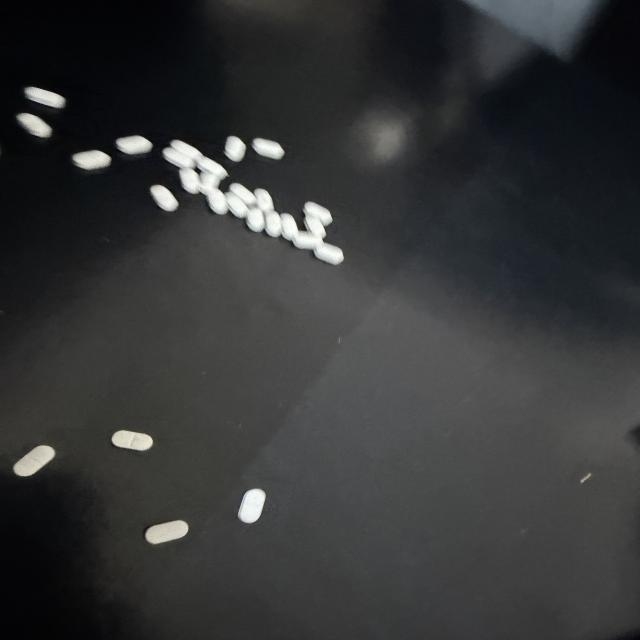pill: (14, 446, 55, 476), (145, 520, 188, 544), (238, 489, 265, 523), (16, 113, 52, 137), (24, 87, 65, 108), (112, 430, 153, 450), (72, 150, 111, 170), (196, 156, 228, 180), (150, 185, 178, 212), (115, 136, 153, 155), (304, 202, 332, 226), (252, 138, 284, 159), (163, 147, 194, 168), (314, 243, 343, 265), (170, 140, 201, 160), (225, 192, 248, 218), (229, 183, 256, 205), (225, 136, 246, 162), (207, 189, 228, 214), (292, 232, 322, 249), (179, 169, 200, 193), (304, 216, 326, 238), (281, 214, 299, 240), (199, 172, 220, 194), (254, 189, 274, 212), (247, 208, 265, 232), (265, 211, 281, 237)
